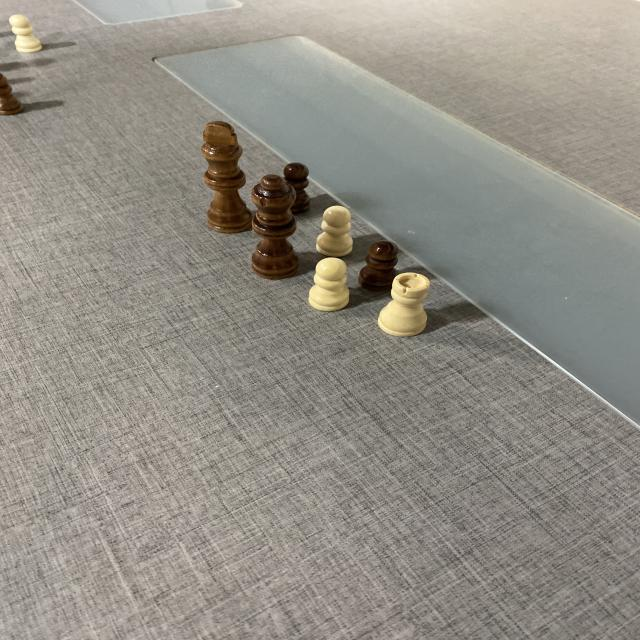Black-King: (200, 121, 254, 233)
Black-Pawn: (358, 239, 400, 295), (282, 160, 312, 213)
Black-Queen: (250, 175, 300, 281)
White-Pawn: (308, 257, 353, 313), (316, 204, 355, 258)
White-Rook: (377, 271, 433, 338)
